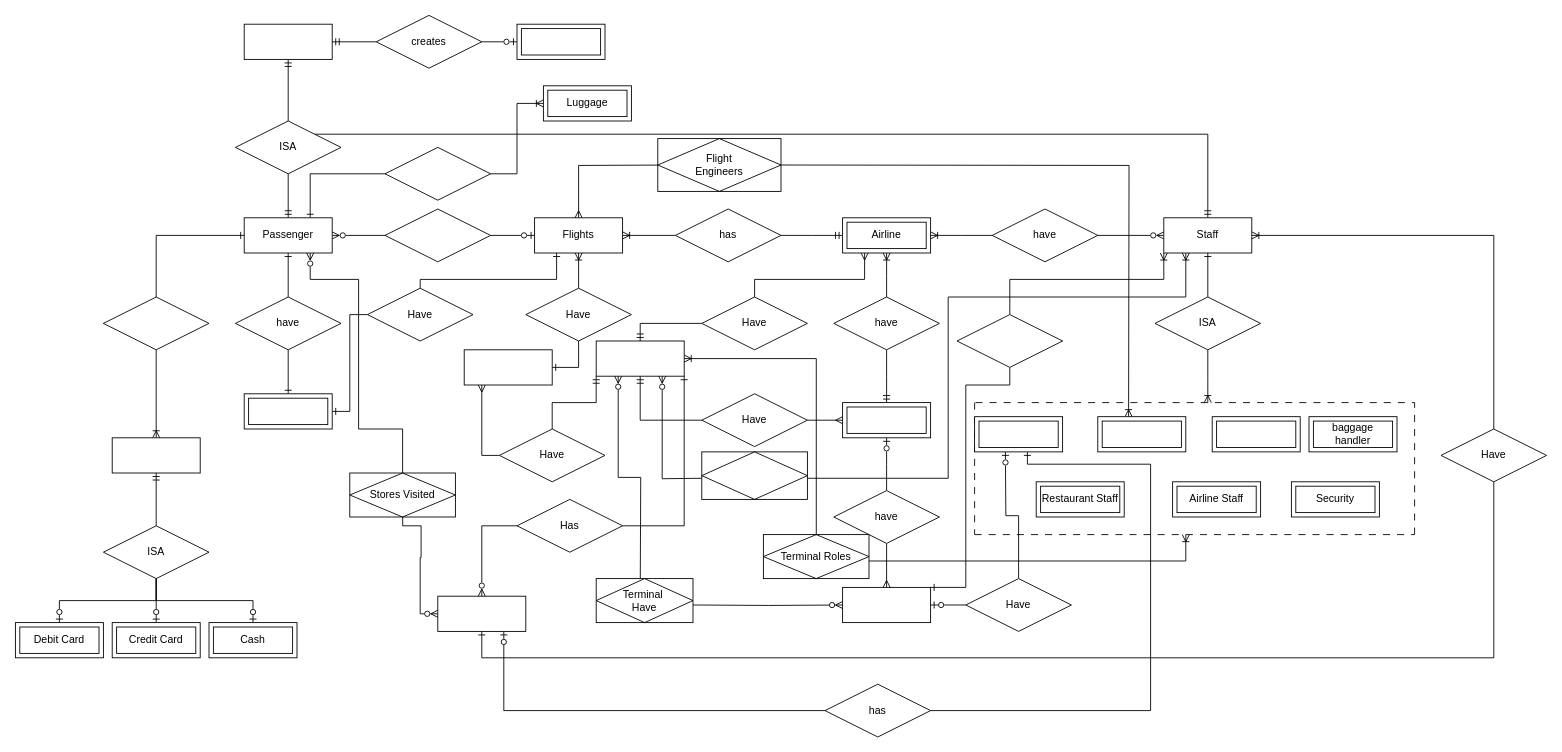
The diagram is 1562 pixels wide and 752 high, and some of its shapes have lost their labels. The centre of each missing label's shape, as x and y in pixels:
"Account" belongs at pixel 560 41.
"assigned" belongs at pixel 437 173.
"board" belongs at pixel 437 235.
"Engineer" belongs at pixel 1141 434.
"Gates" belongs at pixel 507 367.
"General User" belongs at pixel 287 41.
"Lounge" belongs at pixel 886 420.
"Manager" belongs at pixel 1018 434.
"payment" belongs at pixel 156 323.
"payment method" belongs at pixel 155 455.
"Restaurant" belongs at pixel 886 605.
"Store Staff" belongs at pixel 1255 434.
"Stores" belongs at pixel 481 613.
"Terminal" belongs at pixel 639 358.
"Terminal Staffs" belongs at pixel 754 475.
"Ticket" belongs at pixel 287 411.
"Work" belongs at pixel 1009 340.
